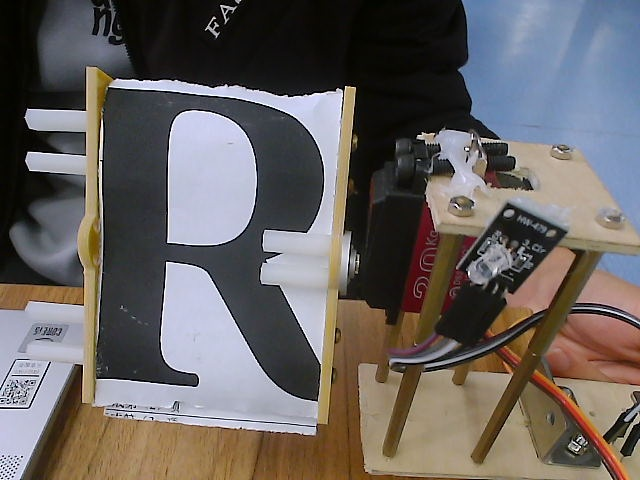R: (21, 61, 382, 454)
